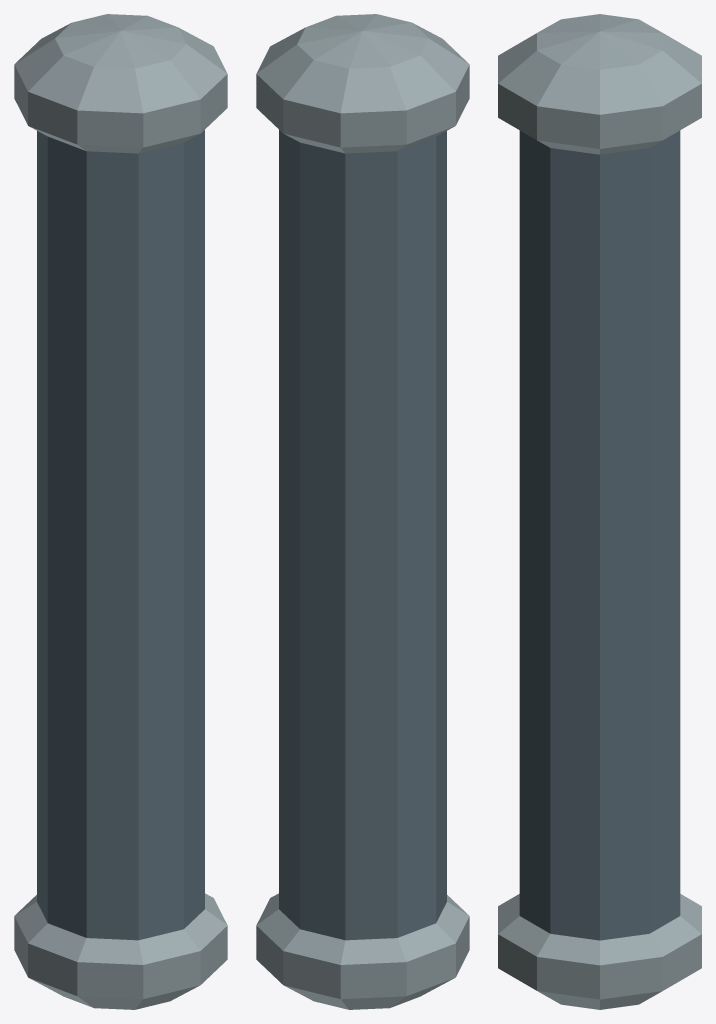
File: objects-pipe.lod0.glb
3 renders of one model, left to right at view 1: azimuth 30°, elevation 25°; view 2: azimuth 150°, elevation 25°; view 3: azimuth 270°, elevation 25°, orthographic.
Visible parts, largest first — view 1: objects-pipe__body; view 2: objects-pipe__body; view 3: objects-pipe__body.
Part boxes in pixels (x1,y1,x2,y2): objects-pipe__body: (14, 14, 227, 1009); objects-pipe__body: (256, 14, 469, 1009); objects-pipe__body: (498, 14, 701, 1009).
Bounding box in the file's own units: 0.4565 × 2.26 × 0.4342.
